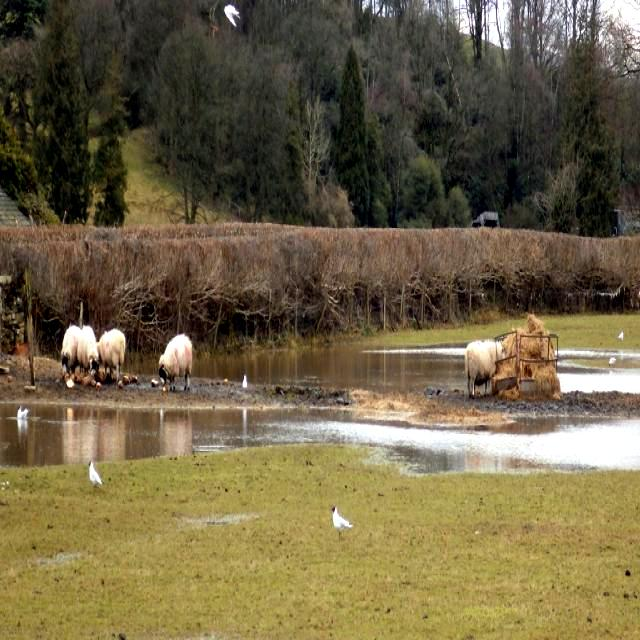sheep: (464, 339, 504, 393), (158, 335, 192, 388)
